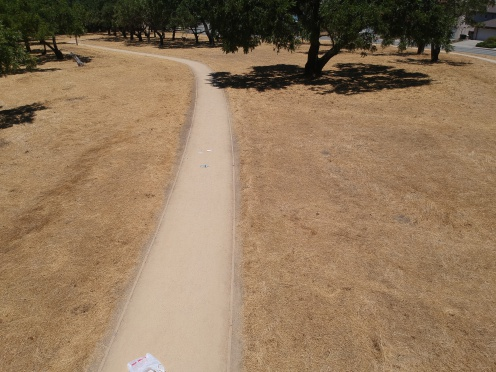bottle: (197, 160, 213, 170)
plastic bag: (123, 349, 166, 372)
